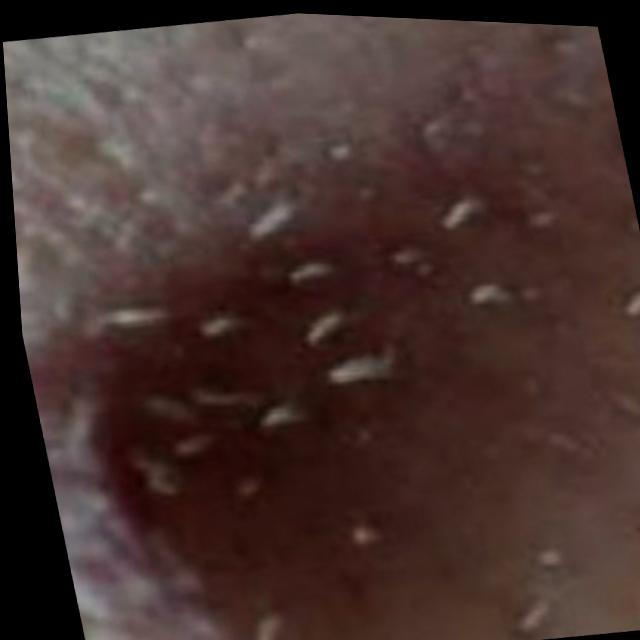whitehead: (2, 10, 640, 640)
